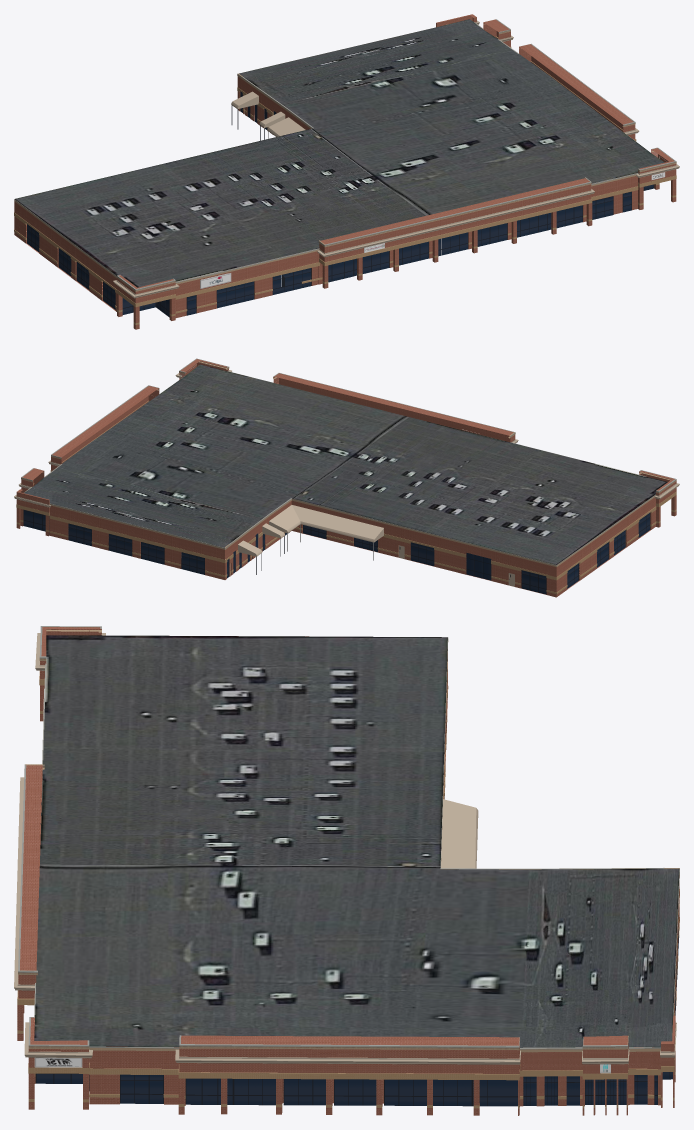
The model's file is hsv_building_4.fbx.
3 views of the same model, one above another, from view 1: azimuth 30°, elevation 25°; view 2: azimuth 150°, elevation 25°; view 3: azimuth 270°, elevation 25° (orthographic). The views are drawn at different scales.
Visible parts, largest first — view 1: polySurface181; view 2: polySurface181; view 3: polySurface181.
Boxes of the visible parts, x1=… form: polySurface181: x1=14, y1=14, x2=679, y2=329; polySurface181: x1=14, y1=358, x2=679, y2=597; polySurface181: x1=14, y1=626, x2=679, y2=1115.
Size of the model in its own units: 8993 by 680 by 5891.
Materials: 9 (8 with a texture image).
